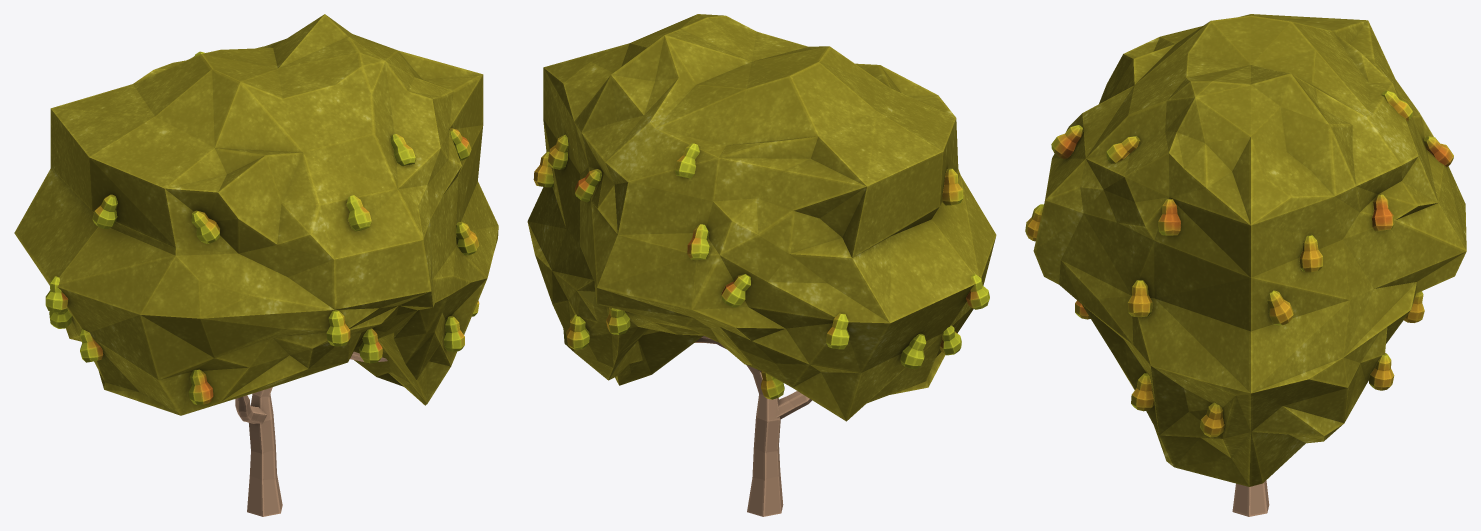
3 views of the same model, side by side, from view 1: azimuth 30°, elevation 25°; view 2: azimuth 150°, elevation 25°; view 3: azimuth 270°, elevation 25° (orthographic). The views are drawn at different scales.
Parts seen in each view (by area): view 1: PeerTree_mesh; view 2: PeerTree_mesh; view 3: PeerTree_mesh.
Part boxes in pixels (<box>): PeerTree_mesh: <box>14,14,498,516</box>; PeerTree_mesh: <box>527,14,996,516</box>; PeerTree_mesh: <box>1025,14,1466,516</box>.
Size of the model in its own units: 12.35 by 12 by 10.1.
Materials: 1 (1 with a texture image).
